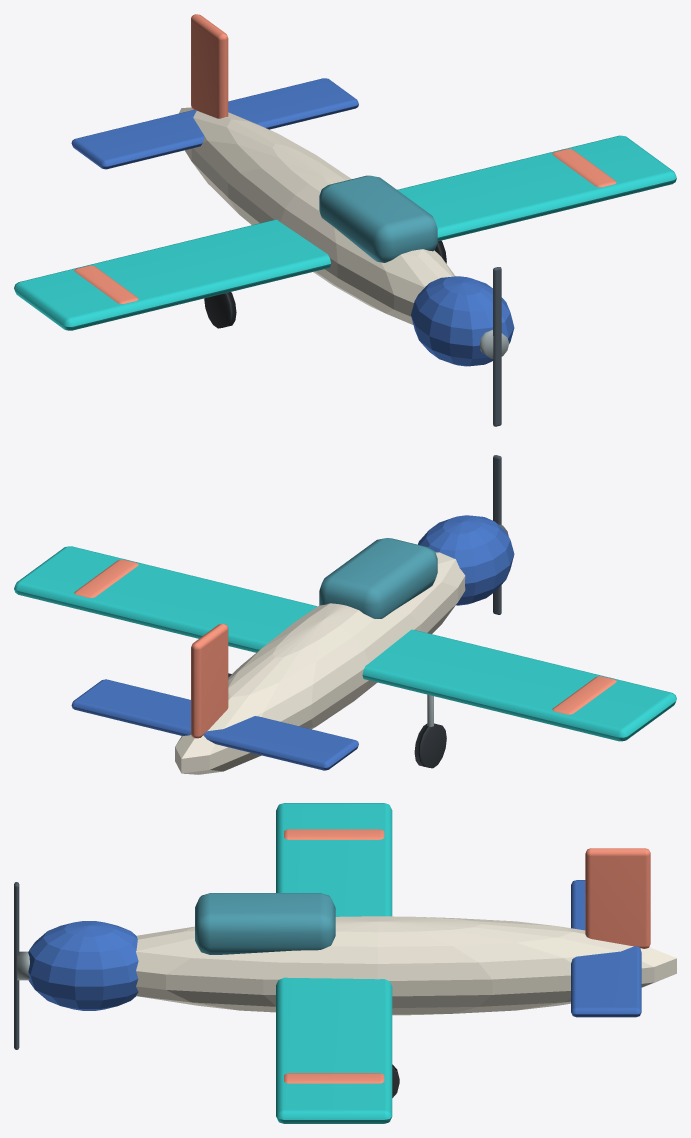
The model's file is HL_Plane_CoastSkimmer.fbx.
3 renders of one model, top to bottom at view 1: azimuth 30°, elevation 25°; view 2: azimuth 150°, elevation 25°; view 3: azimuth 270°, elevation 25°, orthographic. The views are drawn at different scales.
Parts seen in each view (by area): view 1: Plane | main wing, Plane | fuselage, Plane | rear stabilizer, Plane | cockpit, Plane | cobalt nose, Plane | vertical tail, Plane | prop blade, Plane | wing tip marker, Plane | wing tip marker.001, Plane | wheel; view 2: Plane | main wing, Plane | fuselage, Plane | rear stabilizer, Plane | cockpit, Plane | cobalt nose, Plane | vertical tail, Plane | wheel, Plane | wing tip marker.001, Plane | wing tip marker, Plane | prop blade; view 3: Plane | fuselage, Plane | main wing, Plane | cobalt nose, Plane | cockpit, Plane | vertical tail, Plane | rear stabilizer, Plane | wing tip marker, Plane | wing tip marker.001, Plane | prop blade.
Part boxes in pixels (<box>): Plane | main wing: <box>14,135,676,330</box>; Plane | fuselage: <box>179,107,455,324</box>; Plane | rear stabilizer: <box>71,78,358,169</box>; Plane | cockpit: <box>319,175,437,262</box>; Plane | cobalt nose: <box>411,276,514,366</box>; Plane | vertical tail: <box>191,14,228,118</box>; Plane | prop blade: <box>493,267,501,426</box>; Plane | wing tip marker: <box>74,265,138,303</box>; Plane | wing tip marker.001: <box>552,149,616,187</box>; Plane | wheel: <box>204,292,236,328</box>; Plane | main wing: <box>14,546,676,741</box>; Plane | fuselage: <box>175,552,465,774</box>; Plane | rear stabilizer: <box>71,679,358,770</box>; Plane | cockpit: <box>319,538,437,618</box>; Plane | cobalt nose: <box>418,515,514,605</box>; Plane | vertical tail: <box>191,624,228,738</box>; Plane | wheel: <box>414,723,446,768</box>; Plane | wing tip marker.001: <box>74,559,138,597</box>; Plane | wing tip marker: <box>552,676,616,714</box>; Plane | prop blade: <box>493,455,501,614</box>; Plane | fuselage: <box>136,916,676,1015</box>; Plane | main wing: <box>276,803,392,1123</box>; Plane | cobalt nose: <box>28,921,138,1010</box>; Plane | cockpit: <box>195,893,335,954</box>; Plane | vertical tail: <box>585,848,650,948</box>; Plane | rear stabilizer: <box>571,880,641,1017</box>; Plane | wing tip marker: <box>284,829,384,839</box>; Plane | wing tip marker.001: <box>284,1073,384,1083</box>; Plane | prop blade: <box>14,882,19,1049</box>.
Size of the model in its own units: 816 by 244 by 731.
